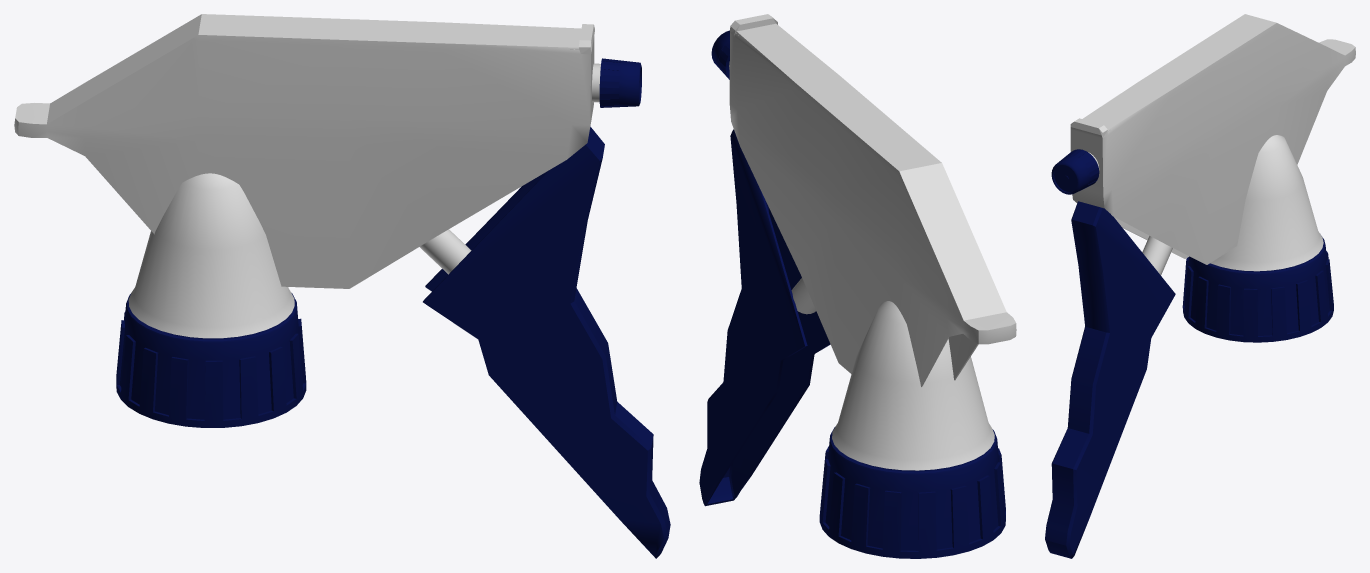
The model's file is Btop.FBX.
3 renders of one model, left to right at view 1: azimuth 30°, elevation 25°; view 2: azimuth 150°, elevation 25°; view 3: azimuth 270°, elevation 25°, orthographic. The views are drawn at different scales.
Parts seen in each view (by area): view 1: Nozzle; view 2: Nozzle; view 3: Nozzle.
Boxes of the visible parts, box(x1,y1,x2,y2) form: Nozzle: box(14, 14, 670, 558); Nozzle: box(699, 14, 1016, 558); Nozzle: box(1045, 14, 1355, 558).
Bounding box in the file's own units: 20.15 × 20.53 × 14.03.
